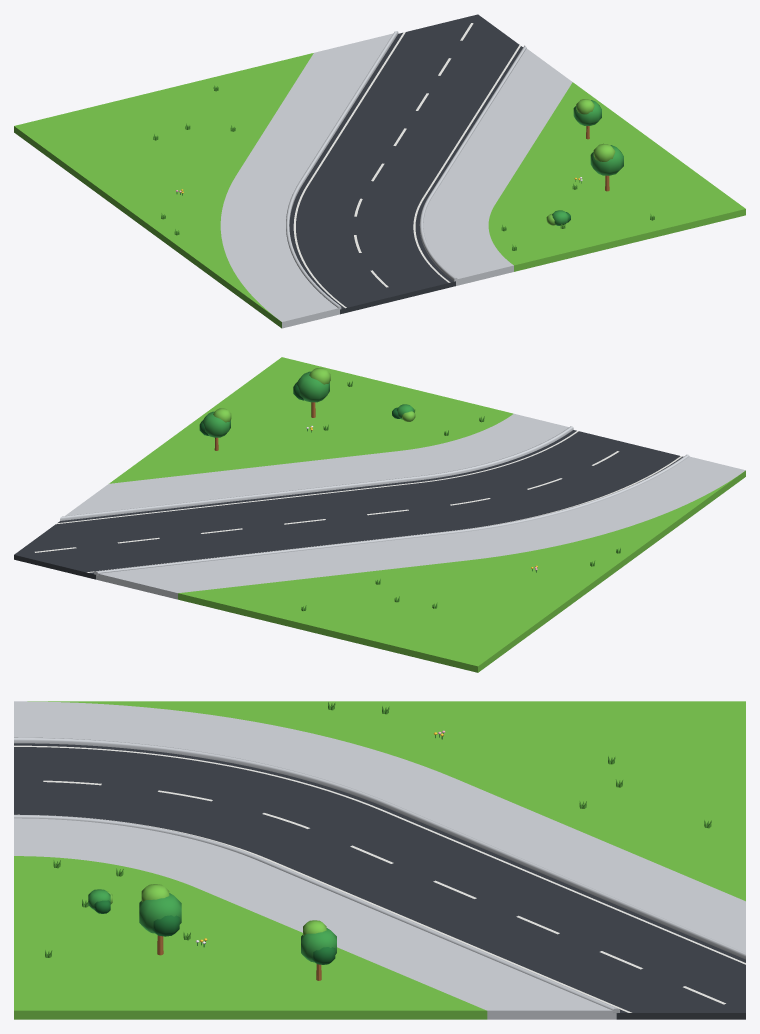
The model's file is rua_diagonal_curva_direita_grama.glb.
The picture shows the model from 3 angles, top to bottom: view 1: azimuth 30°, elevation 25°; view 2: azimuth 150°, elevation 25°; view 3: azimuth 270°, elevation 25°; orthographic projection. The views are drawn at different scales.
Parts seen in each view (by area): view 1: rua_diagonal_curva_direita_grama; view 2: rua_diagonal_curva_direita_grama; view 3: rua_diagonal_curva_direita_grama.
Part boxes in pixels (x1=…): rua_diagonal_curva_direita_grama: x1=14, y1=14, x2=745, y2=328; rua_diagonal_curva_direita_grama: x1=14, y1=357, x2=745, y2=672; rua_diagonal_curva_direita_grama: x1=14, y1=701, x2=745, y2=1019.
Bounding box in the file's own units: 30 × 3.33 × 30.
Materials: 1 (1 with a texture image).
